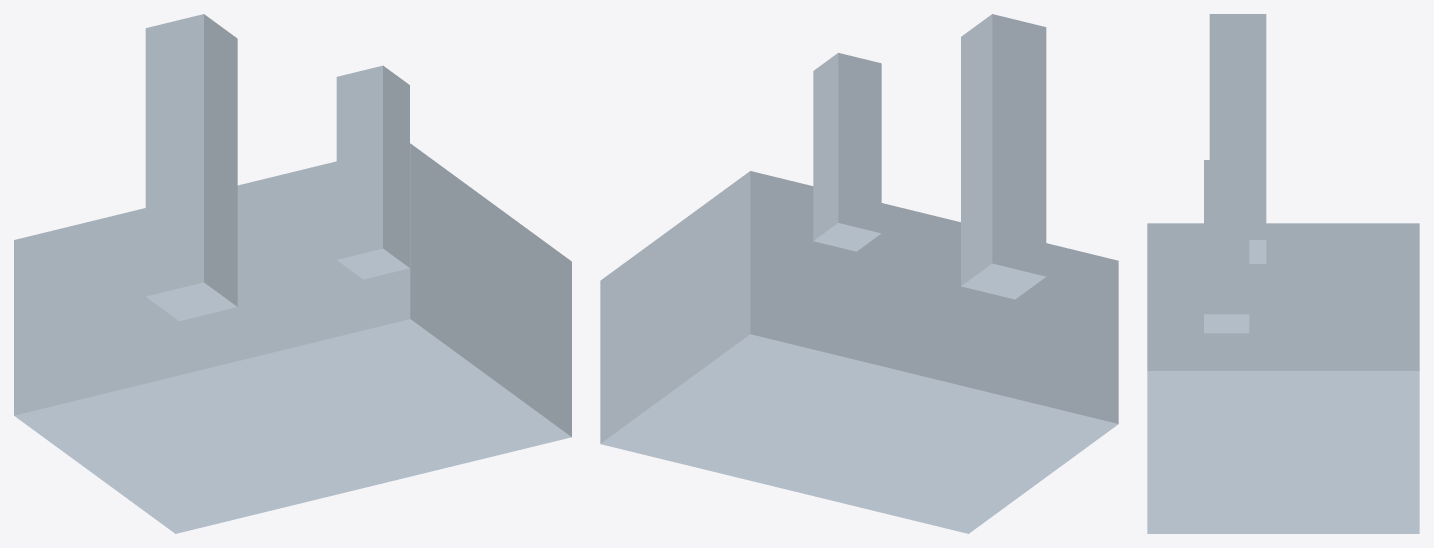
The model's file is industrial-plant.gltf.
3 renders of one model, left to right at view 1: azimuth 30°, elevation 25°; view 2: azimuth 150°, elevation 25°; view 3: azimuth 270°, elevation 25°, orthographic. The views are drawn at different scales.
Visible parts, largest first — view 1: industrial-plant; view 2: industrial-plant; view 3: industrial-plant.
Part boxes in pixels (<box>): industrial-plant: <box>14,14,571,533</box>; industrial-plant: <box>600,14,1118,533</box>; industrial-plant: <box>1147,14,1419,533</box>.
Bounding box in the file's own units: 1.7 × 1.82 × 1.2.
